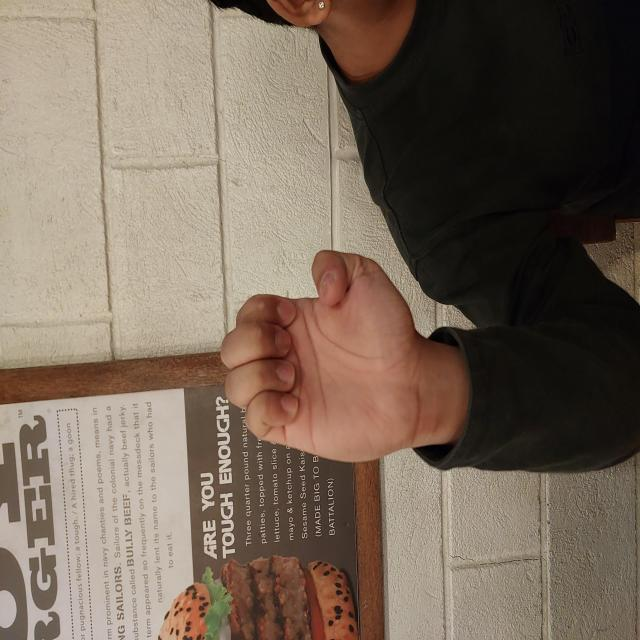E: (176, 218, 392, 424)
